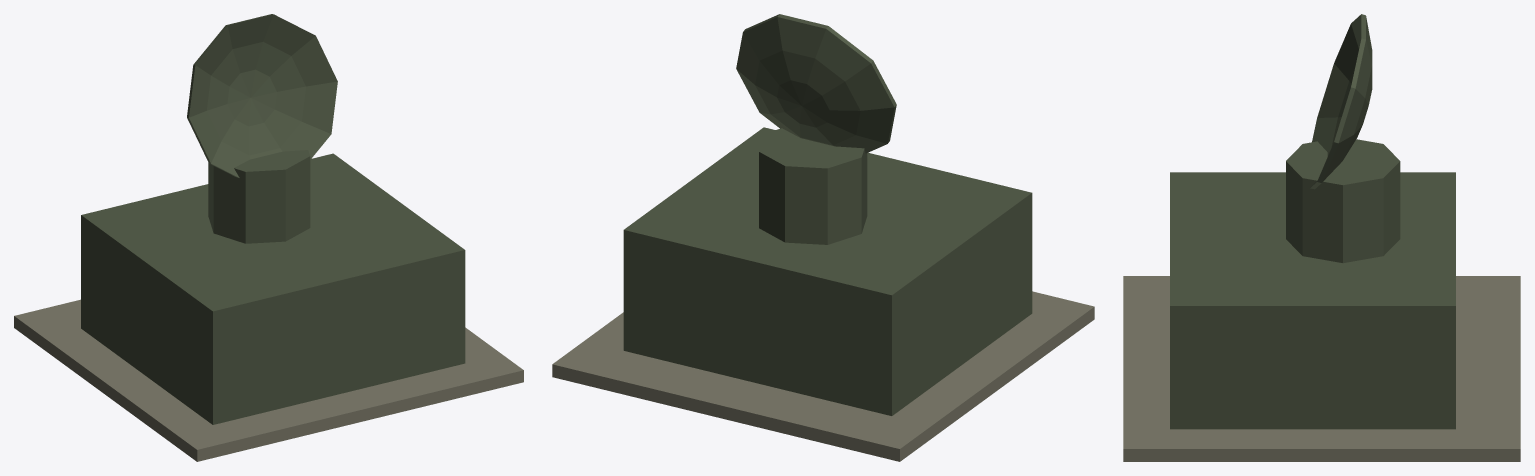
The model's file is Bastion_CommunicationsCenter_LOD1.obj.
3 views of the same model, side by side, from view 1: azimuth 30°, elevation 25°; view 2: azimuth 150°, elevation 25°; view 3: azimuth 270°, elevation 25° (orthographic). The views are drawn at different scales.
Parts seen in each view (by area): view 1: Bastion_CommunicationsCenter_LOD1; view 2: Bastion_CommunicationsCenter_LOD1; view 3: Bastion_CommunicationsCenter_LOD1.
Part boxes in pixels (<box>): Bastion_CommunicationsCenter_LOD1: <box>14,14,523,461</box>; Bastion_CommunicationsCenter_LOD1: <box>552,14,1094,461</box>; Bastion_CommunicationsCenter_LOD1: <box>1123,14,1520,461</box>.
Size of the model in its own units: 6.8 by 6.4 by 6.6.
Materials: 1 (1 with a texture image).
